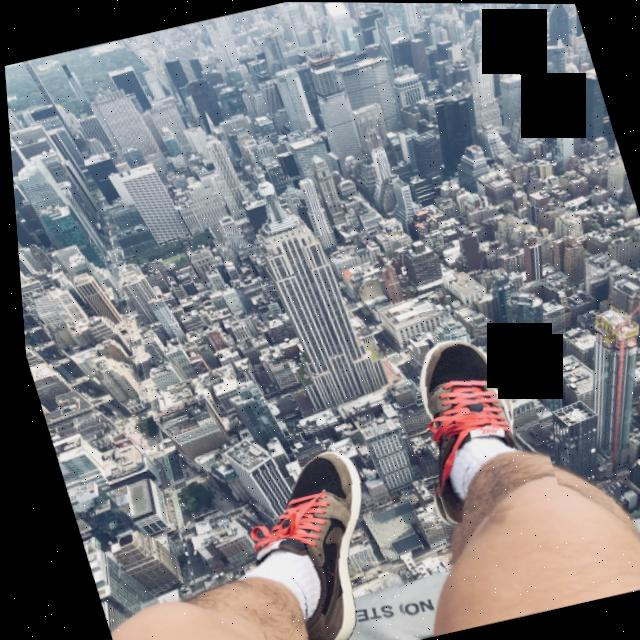shoe: (202, 431, 407, 640), (383, 324, 557, 528)
